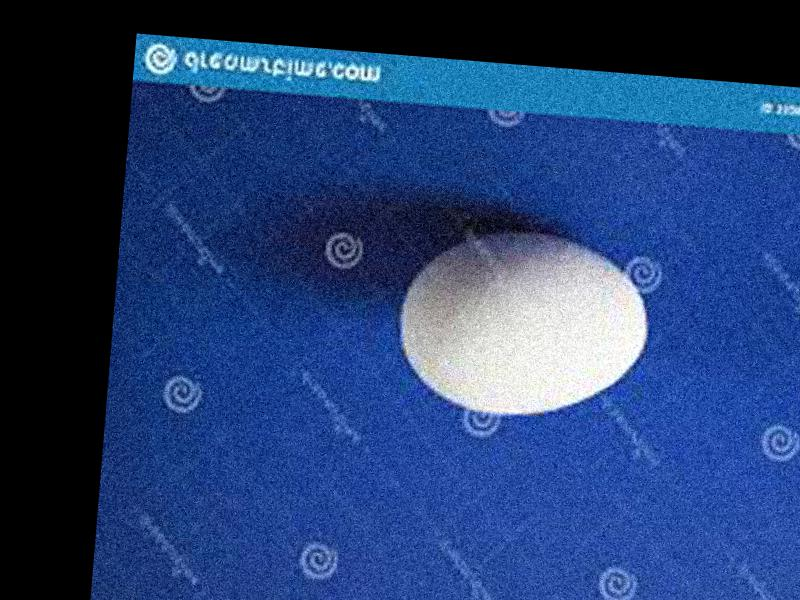Eggs: (392, 222, 655, 423)
